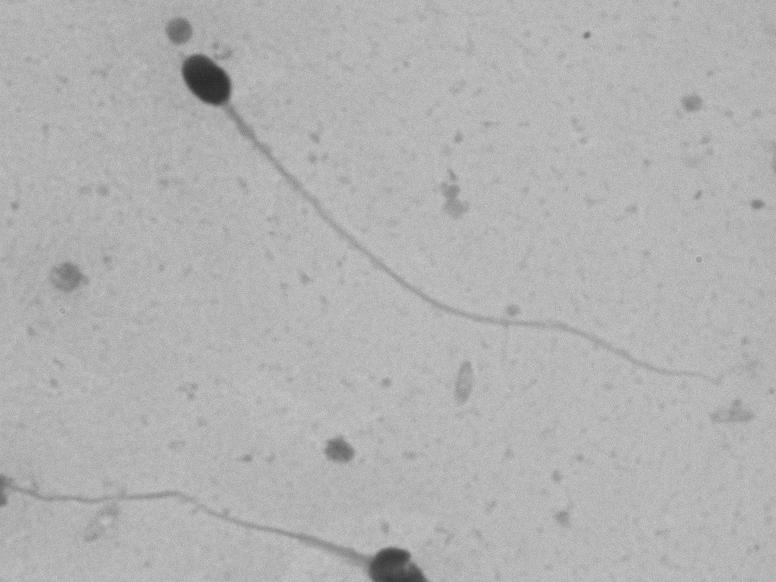Normal: (158, 36, 738, 398)
